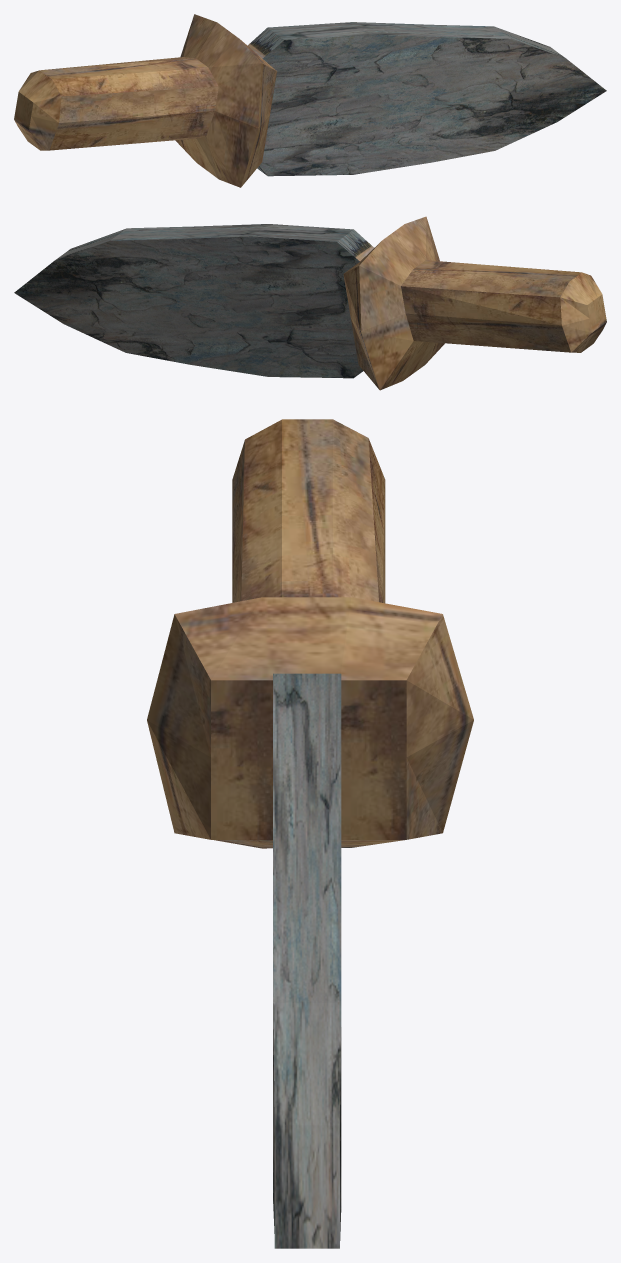
File: flintknife.obj
3 renders of one model, top to bottom at view 1: azimuth 30°, elevation 25°; view 2: azimuth 150°, elevation 25°; view 3: azimuth 270°, elevation 25°, orthographic. The views are drawn at different scales.
Parts seen in each view (by area): view 1: low_poly_Cube; view 2: low_poly_Cube; view 3: low_poly_Cube.
Part boxes in pixels (left/top/right/bottom): low_poly_Cube: left=14, top=14, right=606, bottom=187; low_poly_Cube: left=14, top=216, right=606, bottom=390; low_poly_Cube: left=147, top=419, right=473, bottom=1248.
Bounding box in the file's own units: 9.19 × 2.7 × 2.26.
Materials: 1 (1 with a texture image).
